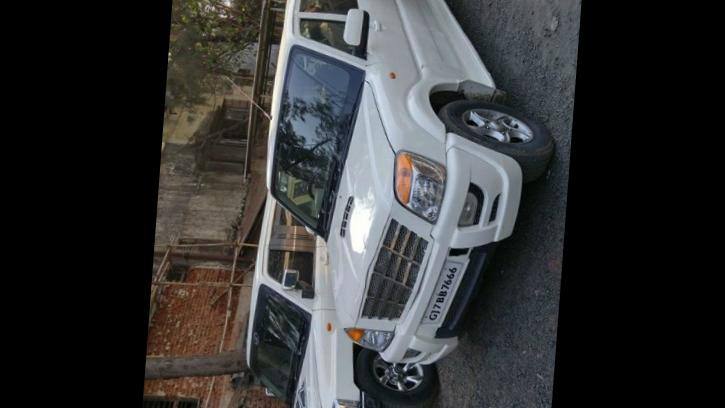plate: (411, 251, 476, 334)
